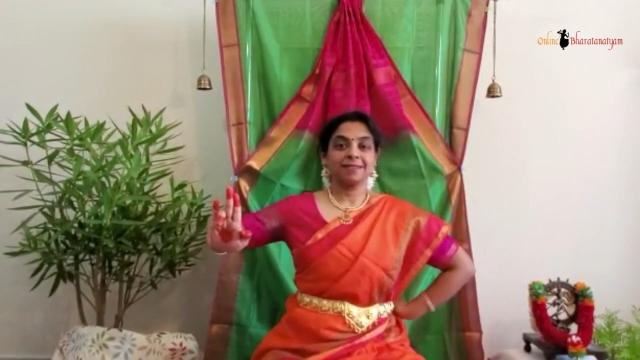tripataka: (192, 176, 262, 262)
